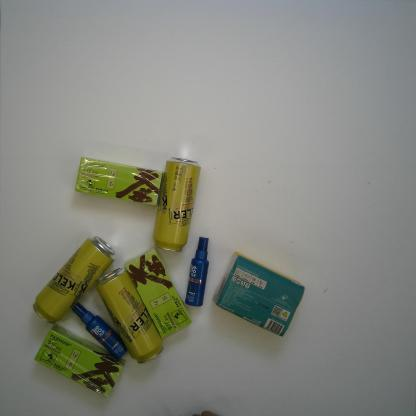Alcohol: (31, 234, 117, 324), (96, 267, 164, 366), (148, 156, 202, 254)
Instant Drink: (33, 323, 125, 399), (122, 247, 193, 340), (72, 155, 166, 206)
Personal Hygiene: (68, 300, 128, 358), (183, 234, 212, 306)
Tissue: (210, 252, 308, 337)
